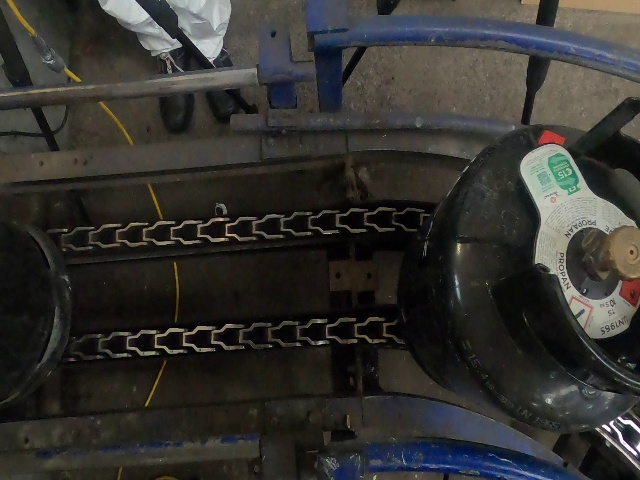gas_bottle: (3, 3, 640, 479)
